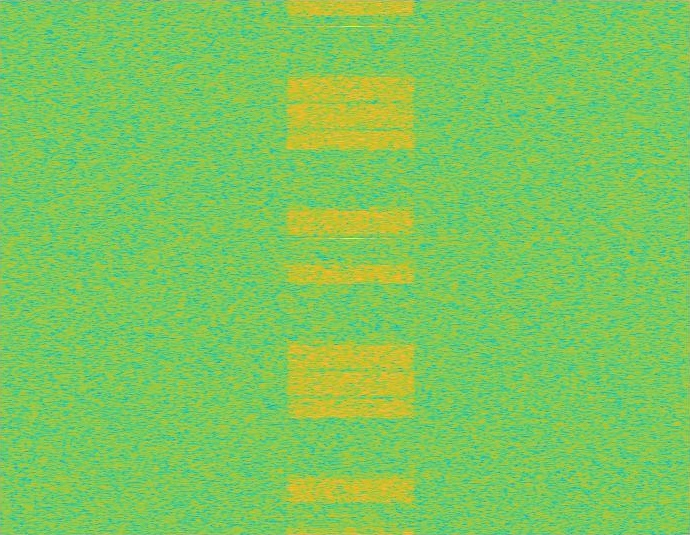LTE: (282, 0, 420, 534)
Radar: (345, 0, 359, 534)
